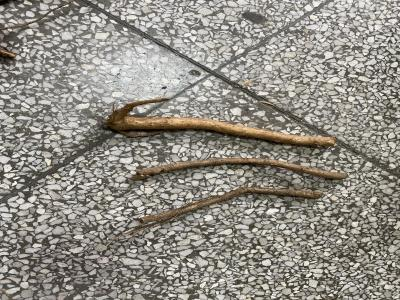Root: (101, 98, 335, 146), (119, 187, 323, 236), (131, 158, 347, 180)
